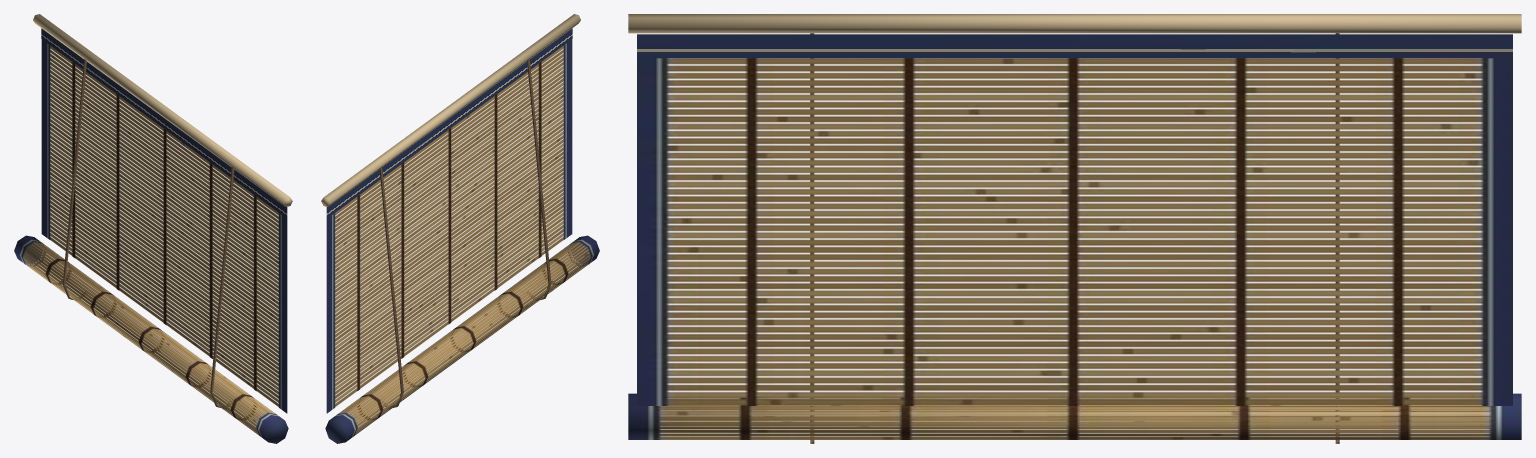
File: sudare.glb
3 views of the same model, side by side, from view 1: azimuth 30°, elevation 25°; view 2: azimuth 150°, elevation 25°; view 3: azimuth 270°, elevation 25° (orthographic). The views are drawn at different scales.
Parts seen in each view (by area): view 1: SudareBlind, SudareRoll, SudarePole, SudareHead, SudareCord0, SudareCord1; view 2: SudareBlind, SudareRoll, SudarePole, SudareHead, SudareCord1, SudareCord0; view 3: SudareBlind, SudareRoll, SudareHead, SudarePole.
Boxes of the visible parts, x1=… form: SudareBlind: x1=41, y1=39, x2=287, y2=413; SudareRoll: x1=14, y1=235, x2=288, y2=443; SudarePole: x1=33, y1=14, x2=292, y2=206; SudareHead: x1=41, y1=28, x2=287, y2=218; SudareCord0: x1=62, y1=59, x2=86, y2=300; SudareCord1: x1=210, y1=167, x2=234, y2=408; SudareBlind: x1=326, y1=39, x2=572, y2=413; SudareRoll: x1=325, y1=235, x2=599, y2=443; SudarePole: x1=321, y1=14, x2=580, y2=206; SudareHead: x1=326, y1=28, x2=572, y2=218; SudareCord1: x1=527, y1=59, x2=551, y2=300; SudareCord0: x1=379, y1=167, x2=403, y2=408; SudareBlind: x1=637, y1=58, x2=1512, y2=405; SudareRoll: x1=628, y1=393, x2=1521, y2=439; SudareHead: x1=637, y1=34, x2=1512, y2=58; SudarePole: x1=628, y1=14, x2=1521, y2=33.
Bounding box in the file's own units: 0.0722 × 0.5517 × 1.02.
Materials: 4 (2 with a texture image).
